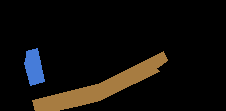parkingspot: (32, 51, 167, 111), (24, 48, 44, 85)
